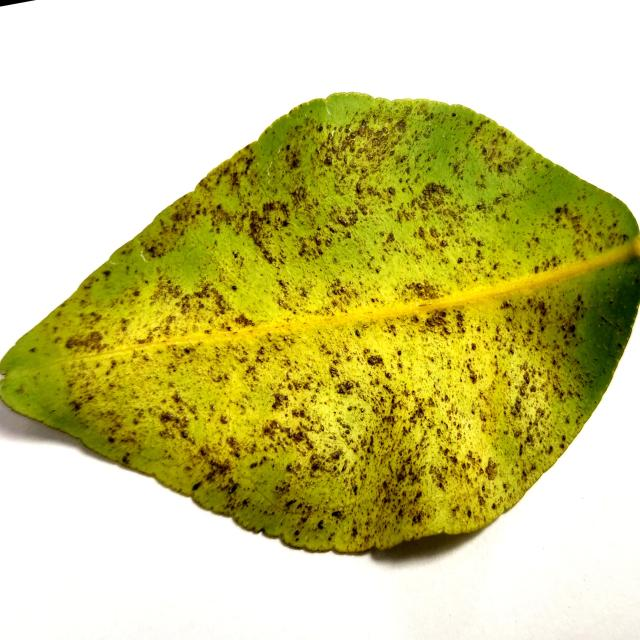melanose: (0, 93, 640, 552)
